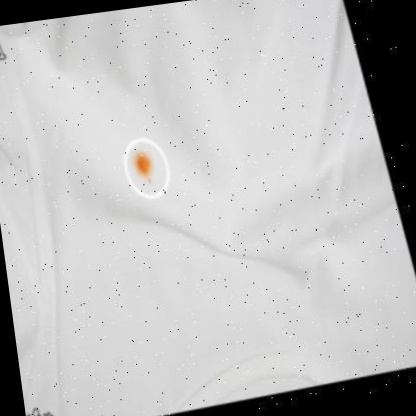kimchi: (132, 150, 160, 184)
